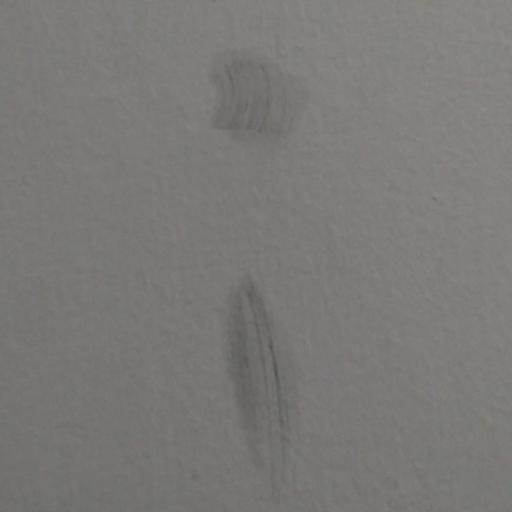stain: (198, 251, 330, 511), (196, 27, 328, 169)
